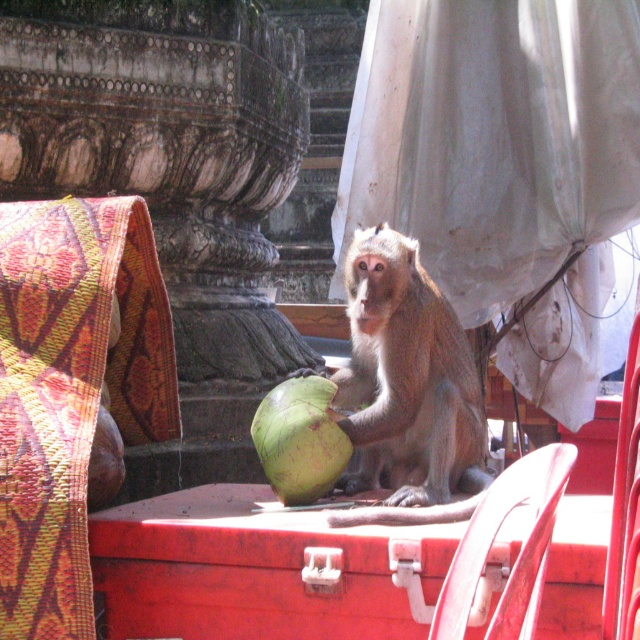Monkey: (288, 223, 488, 510)
